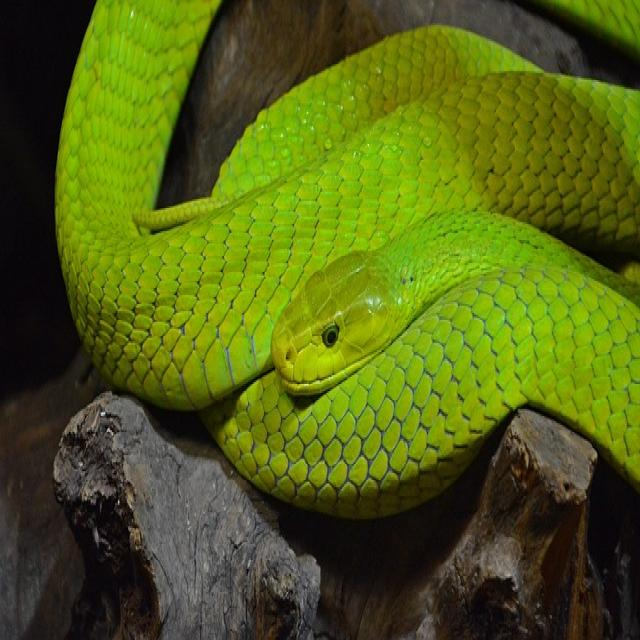Carnivorous: (53, 0, 640, 521)
